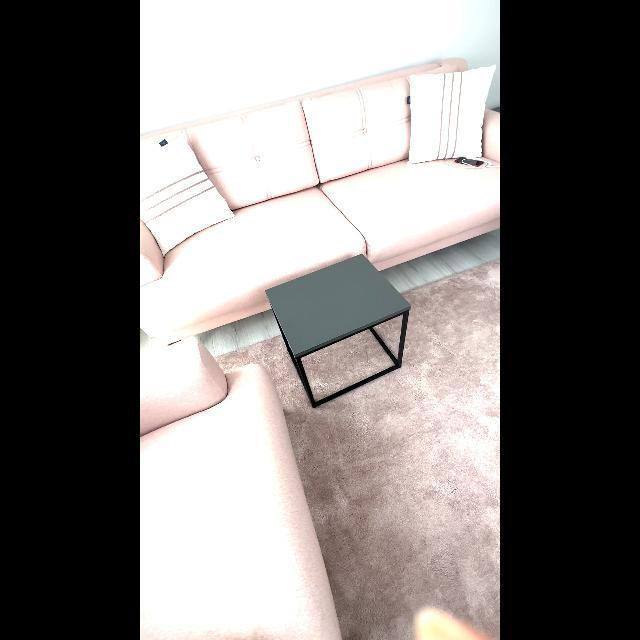coffee table: (262, 249, 416, 415)
